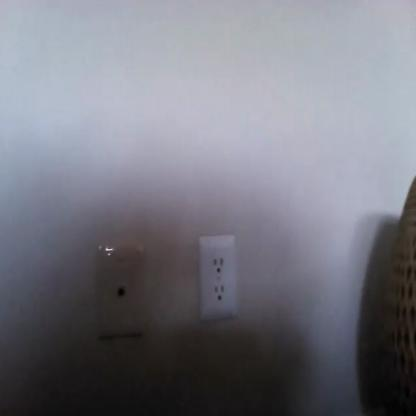OUTLET: (199, 234, 237, 322)
